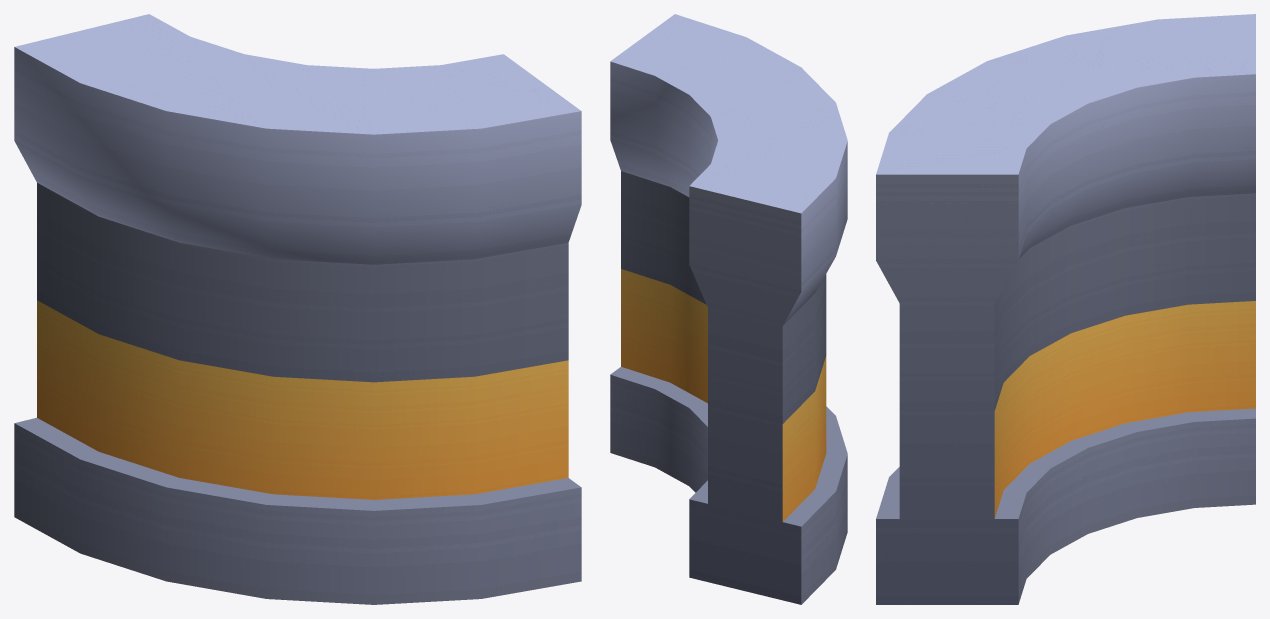
Rendered from wall-corner-round-banner.glb.
The picture shows the model from 3 angles, left to right: view 1: azimuth 30°, elevation 25°; view 2: azimuth 150°, elevation 25°; view 3: azimuth 270°, elevation 25°; orthographic projection. The views are drawn at different scales.
Visible parts, largest first — view 1: wall-corner-round-banner; view 2: wall-corner-round-banner; view 3: wall-corner-round-banner.
Boxes of the visible parts, left/top/right/bottom form: wall-corner-round-banner: left=14, top=14, right=581, bottom=604; wall-corner-round-banner: left=610, top=14, right=847, bottom=604; wall-corner-round-banner: left=876, top=14, right=1255, bottom=604.
Bounding box in the file's own units: 0.8 × 1 × 0.8.
1 material, 1 textured.
